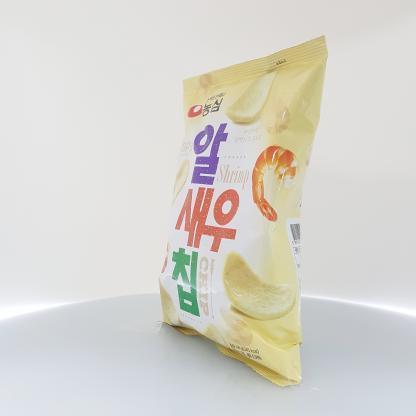Plastic Packaging: (149, 32, 341, 396)
